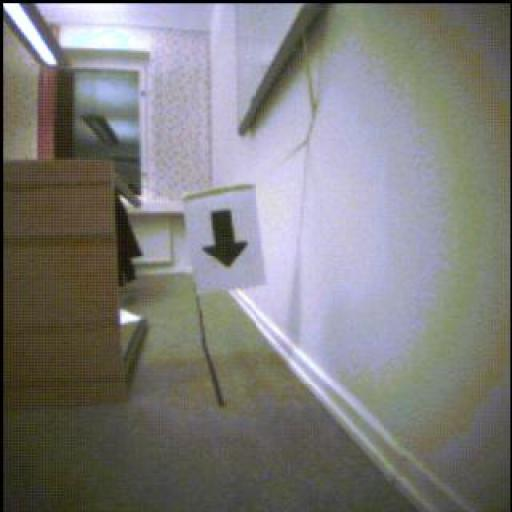Arrow: (205, 211, 248, 268)
